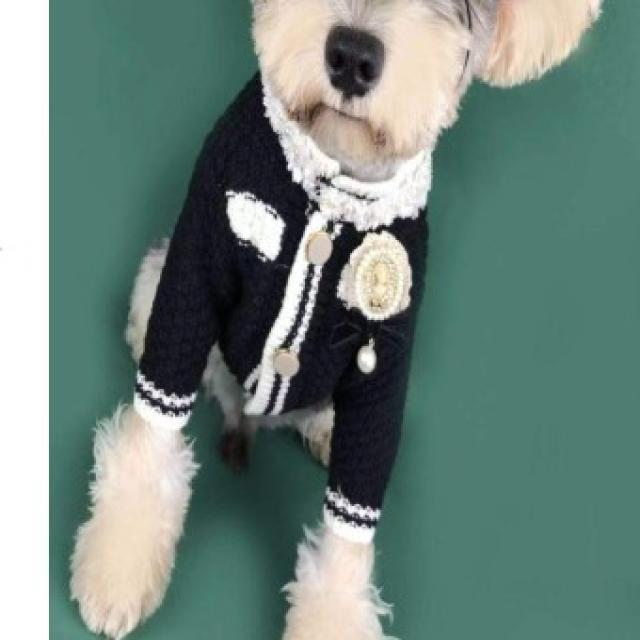cloth: (134, 76, 430, 539)
